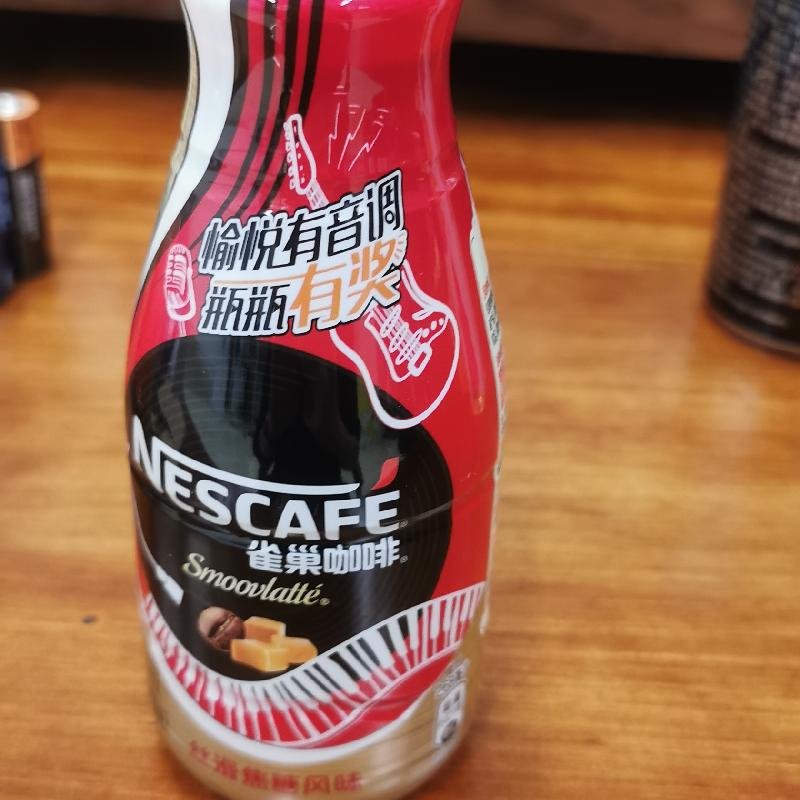bottles: (126, 1, 509, 799)
